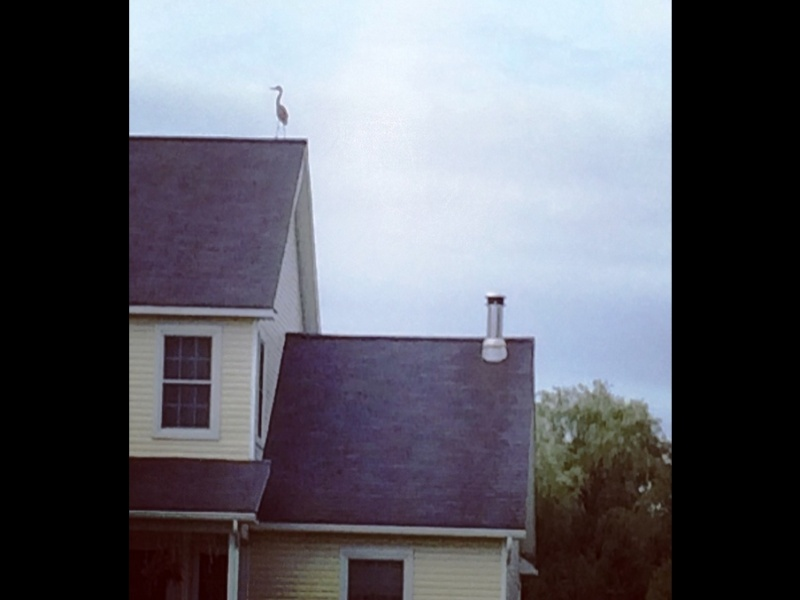heron: (267, 83, 294, 141)
